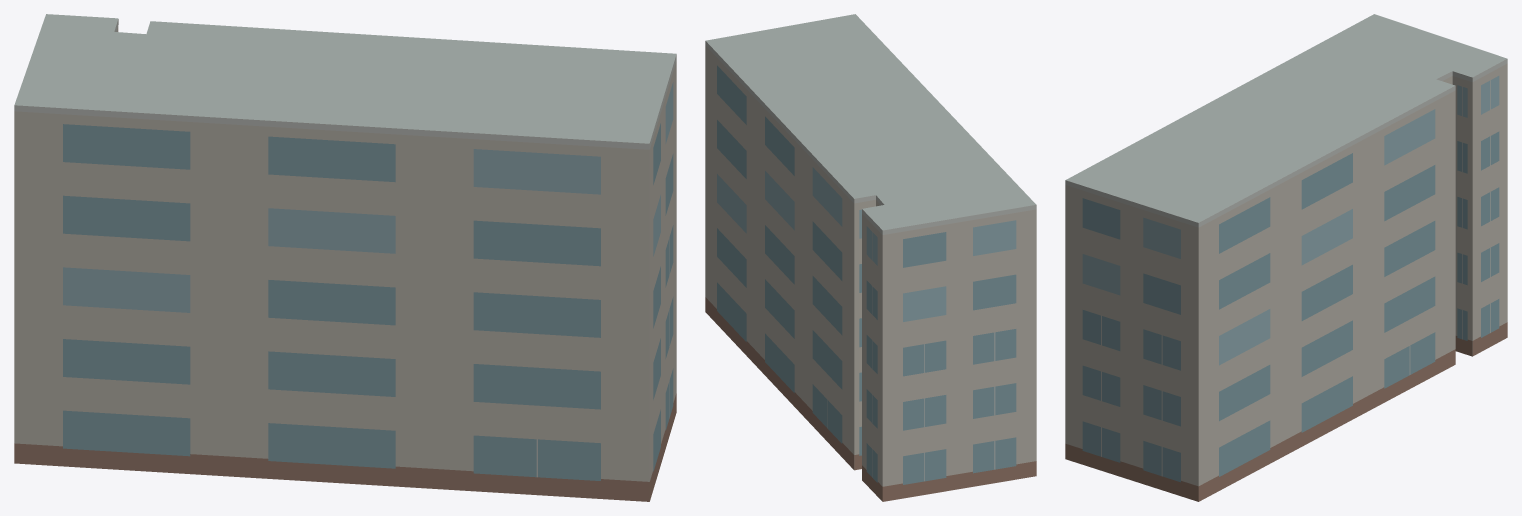
Rendered from survey-upis-32631885.glb.
3 renders of one model, left to right at view 1: azimuth 30°, elevation 25°; view 2: azimuth 150°, elevation 25°; view 3: azimuth 270°, elevation 25°, orthographic. The views are drawn at different scales.
Parts seen in each view (by area): view 1: survey-upis-32631885.tmp; view 2: survey-upis-32631885.tmp; view 3: survey-upis-32631885.tmp.
Part boxes in pixels (<box>): survey-upis-32631885.tmp: <box>14,14,676,501</box>; survey-upis-32631885.tmp: <box>705,14,1036,501</box>; survey-upis-32631885.tmp: <box>1065,14,1507,501</box>.
Size of the model in its own units: 23.14 by 14.4 by 20.69.
